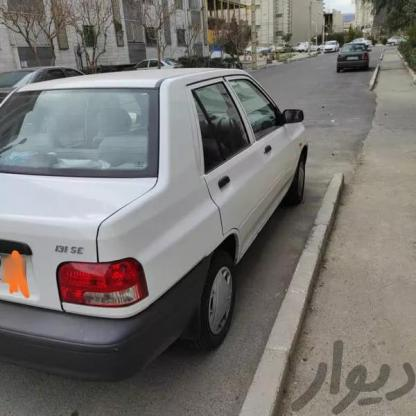Car: (0, 60, 324, 388), (0, 60, 88, 127), (336, 43, 374, 78), (126, 54, 181, 71), (385, 34, 407, 50), (319, 39, 342, 48)
